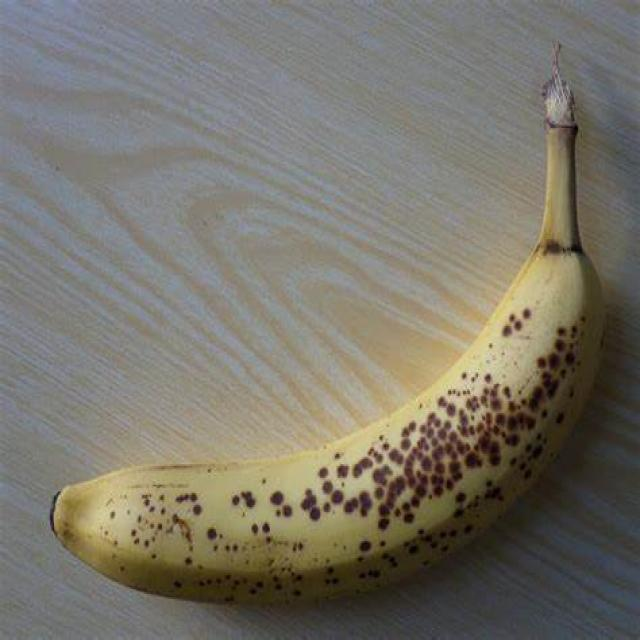Banana: (46, 66, 612, 602)
